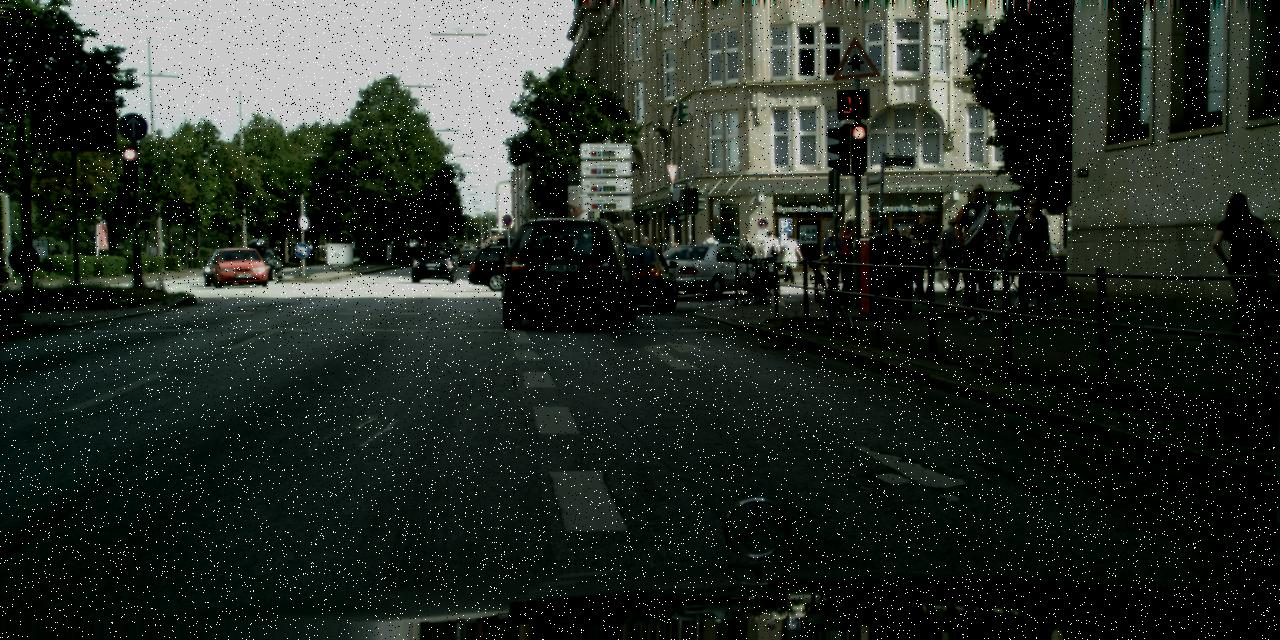ped: (1211, 192, 1271, 341), (950, 181, 1007, 322), (1008, 192, 1058, 316), (1010, 202, 1053, 309), (968, 198, 1007, 294), (907, 210, 944, 302), (830, 217, 866, 305), (934, 216, 968, 296), (854, 228, 882, 299), (899, 224, 927, 292), (821, 226, 848, 291), (882, 228, 906, 290), (849, 230, 870, 282), (779, 232, 799, 282), (893, 226, 913, 276), (738, 232, 758, 280), (760, 229, 779, 275), (703, 231, 718, 269), (662, 234, 674, 264), (50, 244, 61, 273), (640, 235, 651, 261), (148, 242, 157, 265)
